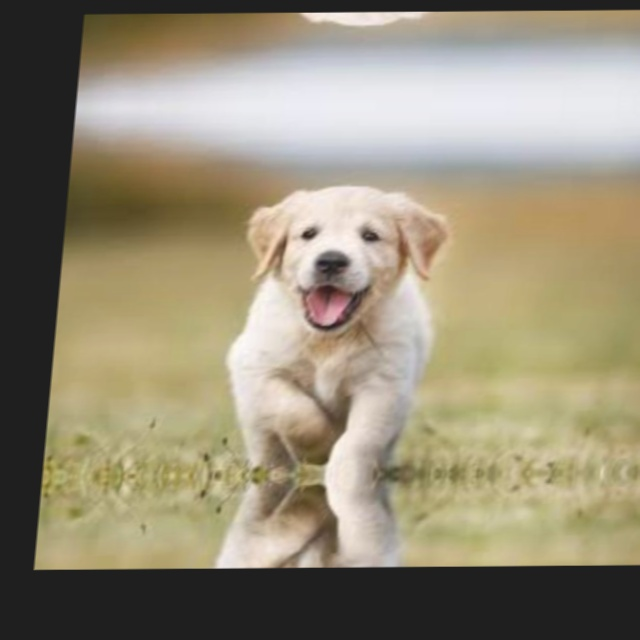dog: (186, 160, 480, 476), (178, 474, 451, 569), (225, 11, 493, 51)
